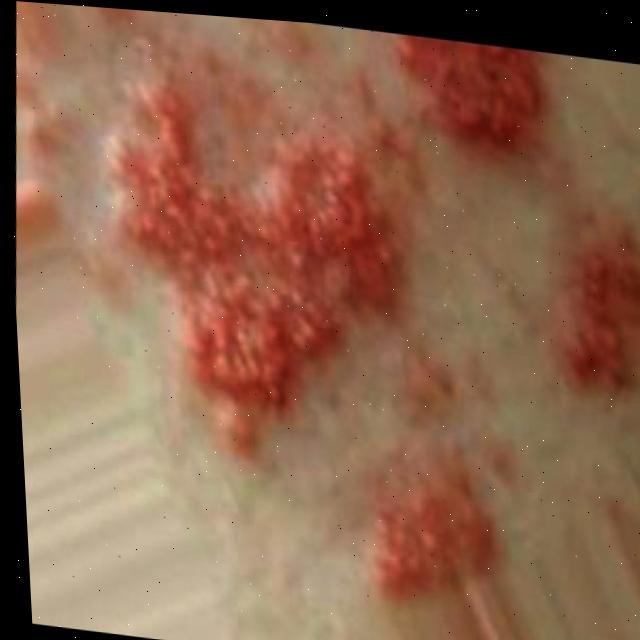Shingles: (79, 18, 424, 469), (358, 460, 507, 611), (384, 32, 553, 160), (540, 215, 640, 406)
